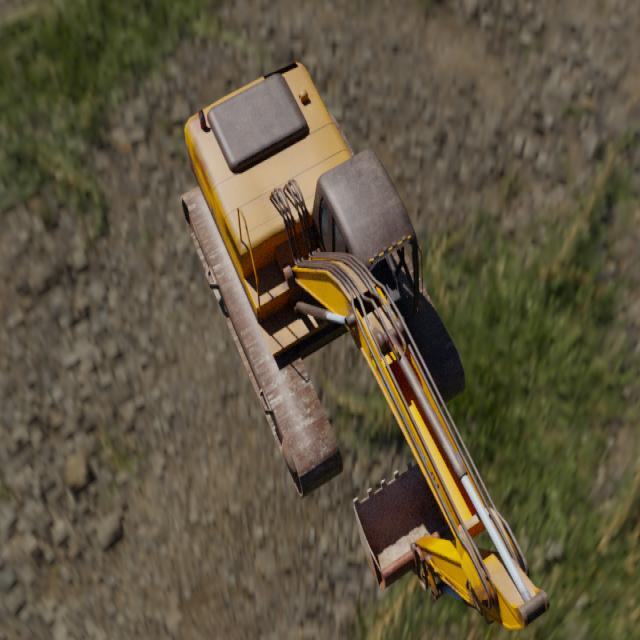excavator: (180, 61, 550, 630)
